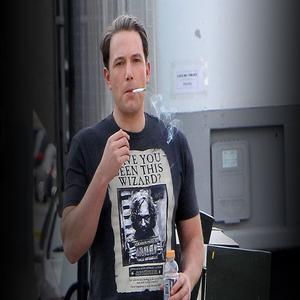cigarette: (130, 85, 147, 96)
